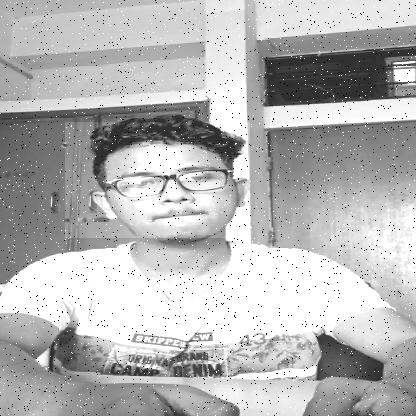Normal: (65, 122, 250, 238)
